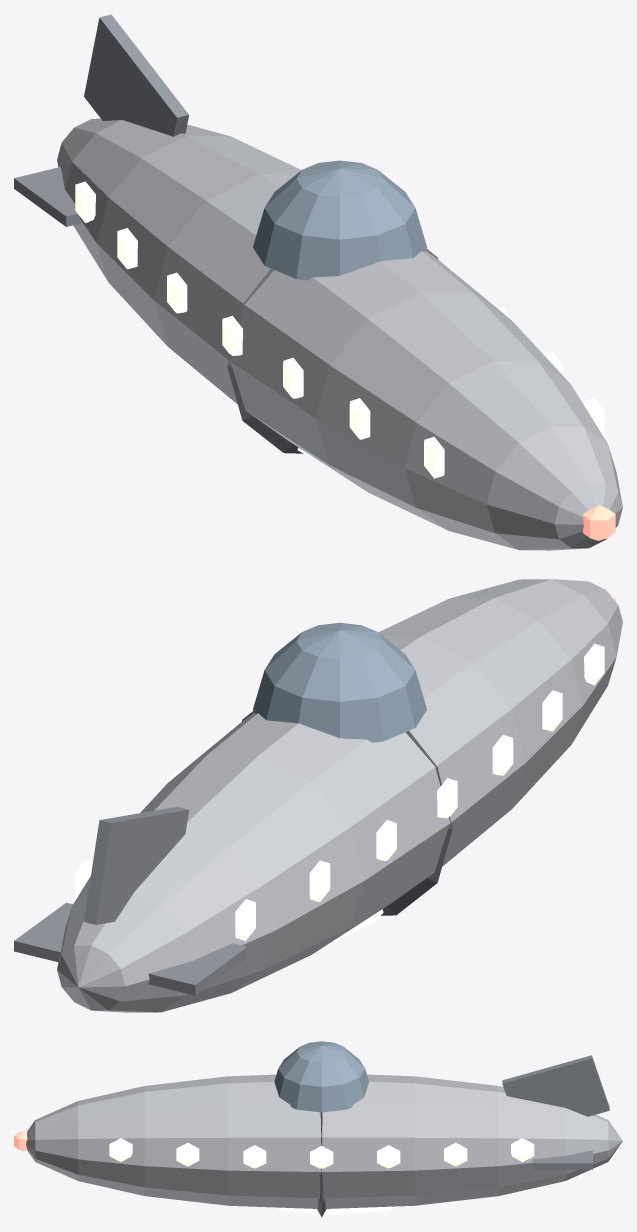
The model's file is cigar.glb.
3 renders of one model, top to bottom at view 1: azimuth 30°, elevation 25°; view 2: azimuth 150°, elevation 25°; view 3: azimuth 270°, elevation 25°, orthographic. The views are drawn at different scales.
Parts seen in each view (by area): view 1: cigar, dome.004; view 2: cigar, dome.004; view 3: cigar, dome.004.
Boxes of the visible parts, x1,y1,x2,y2 form: cigar: (14,14,622,550); dome.004: (253,160,426,280); cigar: (14,579,622,1012); dome.004: (253,622,426,742); cigar: (14,1055,622,1217); dome.004: (274,1041,368,1112).
Bounding box in the file's own units: 2.24 × 2.72 × 9.1.
